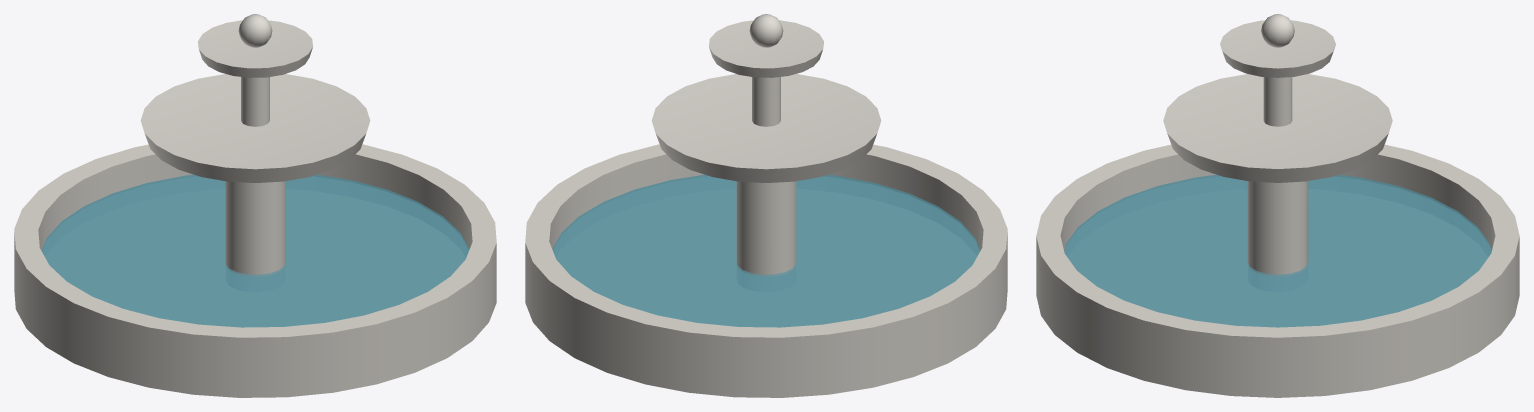
Rendered from plaza_fountain.glb.
3 views of the same model, side by side, from view 1: azimuth 30°, elevation 25°; view 2: azimuth 150°, elevation 25°; view 3: azimuth 270°, elevation 25° (orthographic).
Parts seen in each view (by area): view 1: PlazaFountain; view 2: PlazaFountain; view 3: PlazaFountain.
Part boxes in pixels (<box>): PlazaFountain: <box>14,14,496,397</box>; PlazaFountain: <box>525,14,1007,397</box>; PlazaFountain: <box>1036,14,1519,397</box>.
Size of the model in its own units: 4 by 2.56 by 4.
